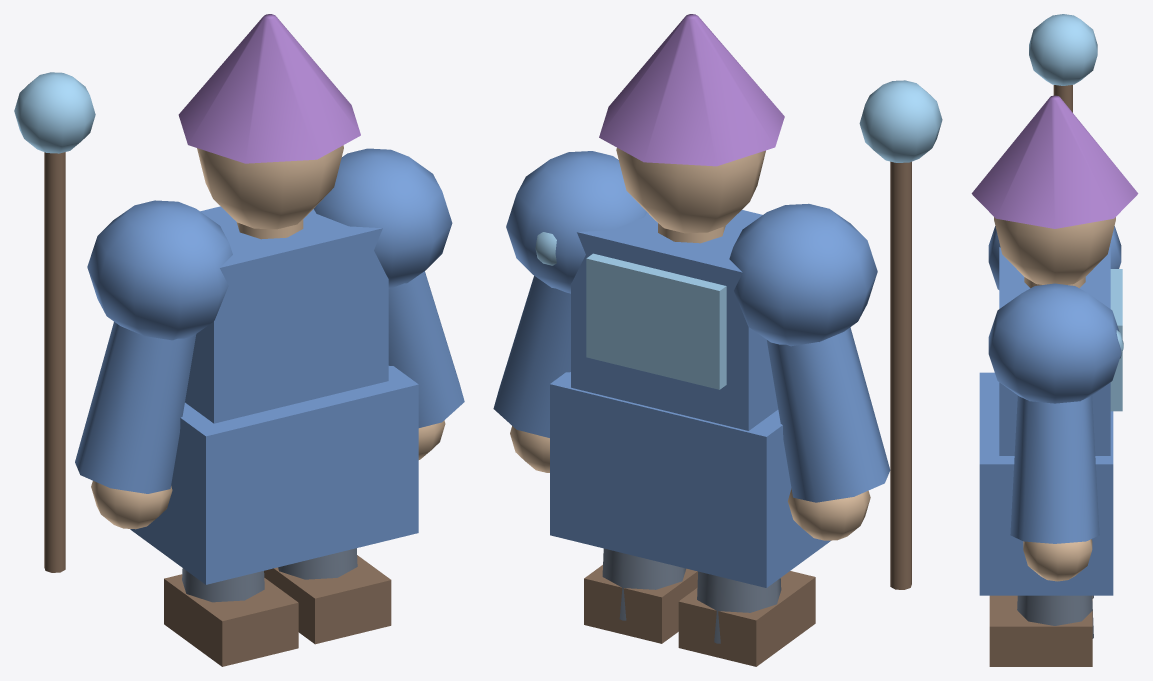
The model's file is foema.glb.
3 renders of one model, left to right at view 1: azimuth 30°, elevation 25°; view 2: azimuth 150°, elevation 25°; view 3: azimuth 270°, elevation 25°, orthographic. The views are drawn at different scales.
Parts seen in each view (by area): view 1: RobeSkirt, Torso, Hood, Shoulder_-1, Arm_-1, Shoulder_1, Staff, Boot_-1, Head, Arm_1, Boot_1, StaffGem (+5 smaller); view 2: RobeSkirt, Torso, Hood, Shoulder_-1, Arm_-1, ChestPlate, Shoulder_1, Staff, Head, Arm_1, Boot_-1, Boot_1 (+6 smaller); view 3: Hood, Shoulder_1, Arm_1, RobeSkirt, Head, Boot_1, Torso, StaffGem, Hand_1, Leg_1, ChestPlate, Shoulder_-1 (+1 smaller).
Part boxes in pixels (bbox=[...]): RobeSkirt: bbox=[130, 366, 418, 584]; Torso: bbox=[185, 206, 388, 423]; Hood: bbox=[178, 14, 360, 163]; Shoulder_-1: bbox=[87, 200, 232, 340]; Arm_-1: bbox=[75, 322, 196, 493]; Shoulder_1: bbox=[314, 148, 452, 288]; Staff: bbox=[44, 152, 65, 572]; Boot_-1: bbox=[164, 574, 298, 666]; Head: bbox=[197, 145, 343, 229]; Arm_1: bbox=[388, 271, 464, 427]; Boot_1: bbox=[264, 555, 391, 644]; StaffGem: bbox=[14, 72, 95, 153]; RobeSkirt: bbox=[550, 372, 830, 587]; Torso: bbox=[571, 210, 778, 430]; Hood: bbox=[599, 14, 784, 166]; Shoulder_-1: bbox=[729, 203, 877, 346]; Arm_-1: bbox=[767, 327, 890, 502]; ChestPlate: bbox=[586, 253, 726, 389]; Shoulder_1: bbox=[506, 151, 646, 293]; Staff: bbox=[890, 161, 911, 589]; Head: bbox=[616, 148, 765, 233]; Arm_1: bbox=[493, 276, 570, 437]; Boot_-1: bbox=[678, 571, 815, 666]; Boot_1: bbox=[584, 565, 697, 643]; Hood: bbox=[971, 95, 1138, 228]; Shoulder_1: bbox=[988, 283, 1121, 403]; Arm_1: bbox=[1010, 395, 1099, 543]; RobeSkirt: bbox=[979, 372, 1113, 595]; Head: bbox=[994, 217, 1115, 284]; Boot_1: bbox=[989, 595, 1092, 666]; Torso: bbox=[999, 247, 1110, 455]; StaffGem: bbox=[1029, 14, 1097, 85]; Hand_1: bbox=[1023, 539, 1092, 581]; Leg_1: bbox=[1017, 595, 1093, 638]; ChestPlate: bbox=[1110, 269, 1122, 411]; Shoulder_-1: bbox=[988, 226, 1121, 289].
Bounding box in the file's own units: 1.59 × 2.11 × 0.6.
